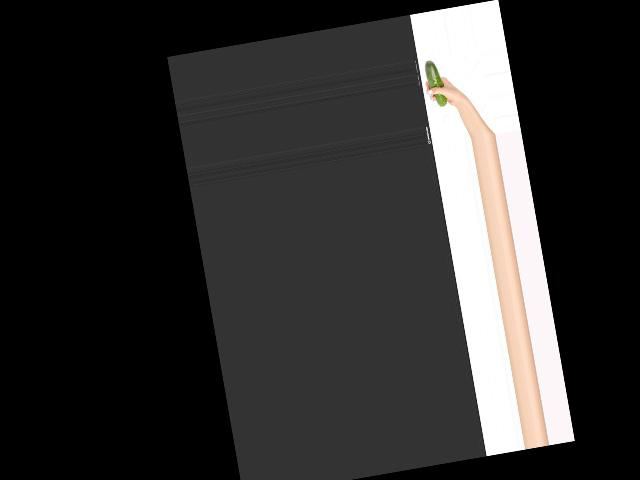cucumber: (423, 58, 447, 107)
